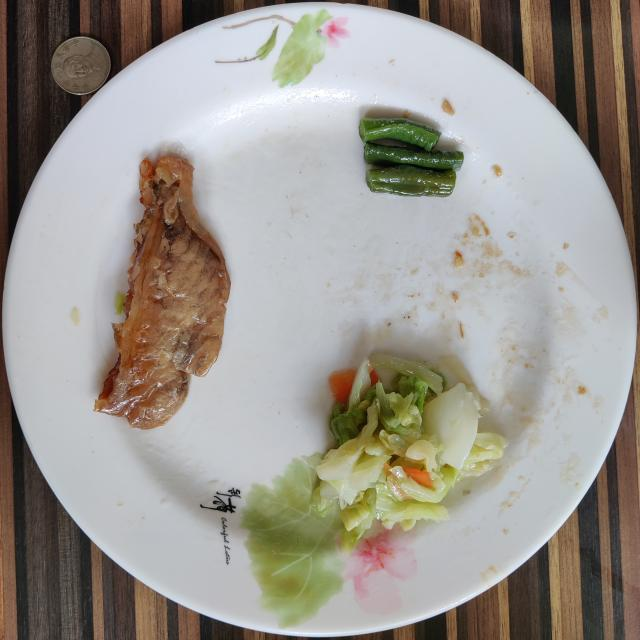Kabayaki sea bream fillet: (95, 156, 230, 429)
cabbage: (312, 352, 508, 555)
coin: (51, 36, 111, 95)
